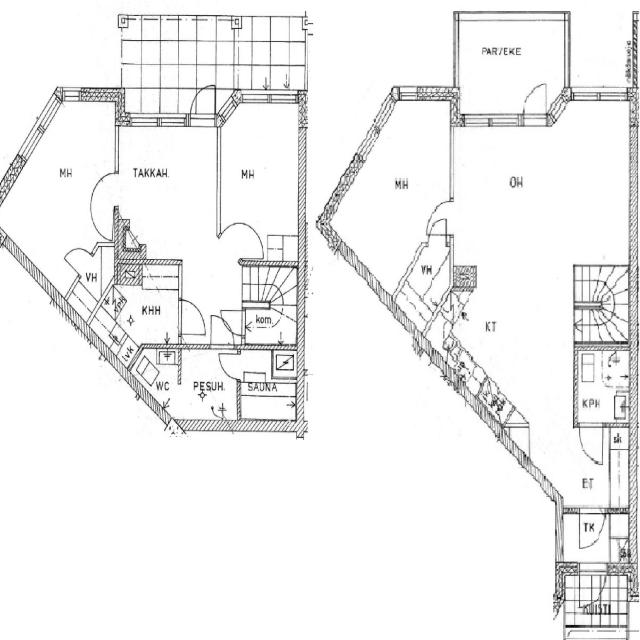door: (219, 209, 258, 262), (580, 562, 606, 612), (190, 80, 215, 126), (64, 239, 92, 276), (523, 82, 546, 127), (580, 507, 604, 549), (425, 202, 453, 235), (178, 300, 205, 334), (92, 174, 118, 206), (211, 312, 234, 348), (580, 423, 602, 458), (218, 354, 240, 379), (223, 311, 245, 336), (428, 217, 446, 247)
